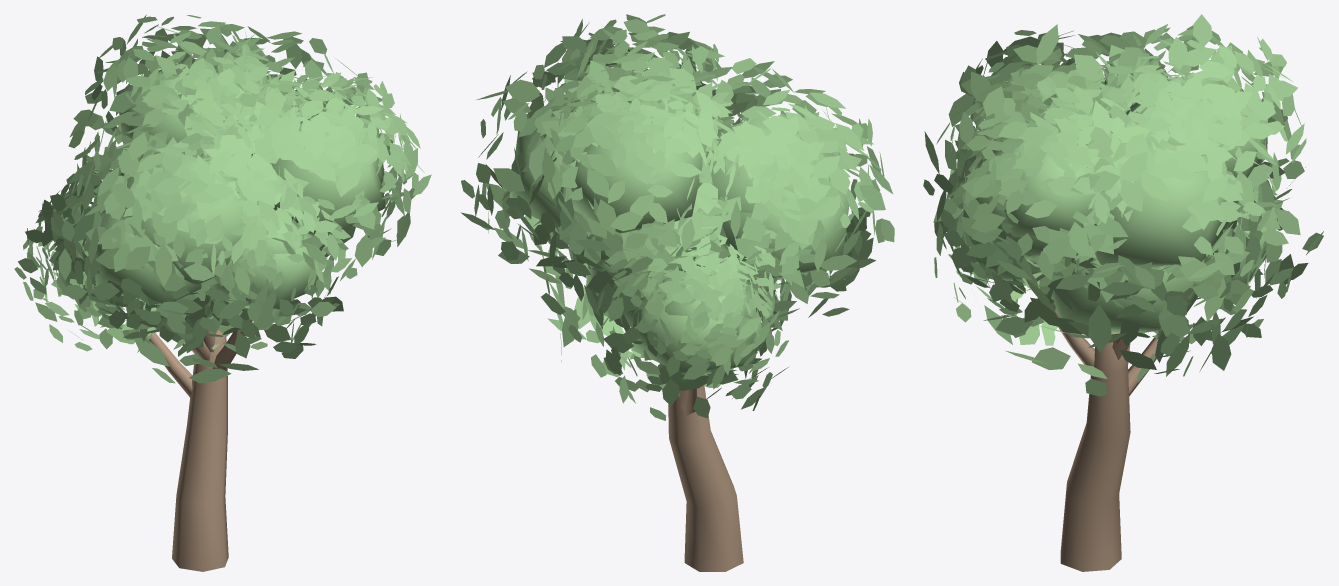
Rendered from tree_round_B.glb.
The picture shows the model from 3 angles, left to right: view 1: azimuth 30°, elevation 25°; view 2: azimuth 150°, elevation 25°; view 3: azimuth 270°, elevation 25°; orthographic projection. The views are drawn at different scales.
Parts seen in each view (by area): view 1: tree_round_B; view 2: tree_round_B; view 3: tree_round_B.
Part boxes in pixels (left/top/right/bottom): tree_round_B: left=14, top=14, right=431, bottom=571; tree_round_B: left=460, top=14, right=894, bottom=571; tree_round_B: left=923, top=14, right=1323, bottom=571.
Bounding box in the file's own units: 1.32 × 1.88 × 1.25.
